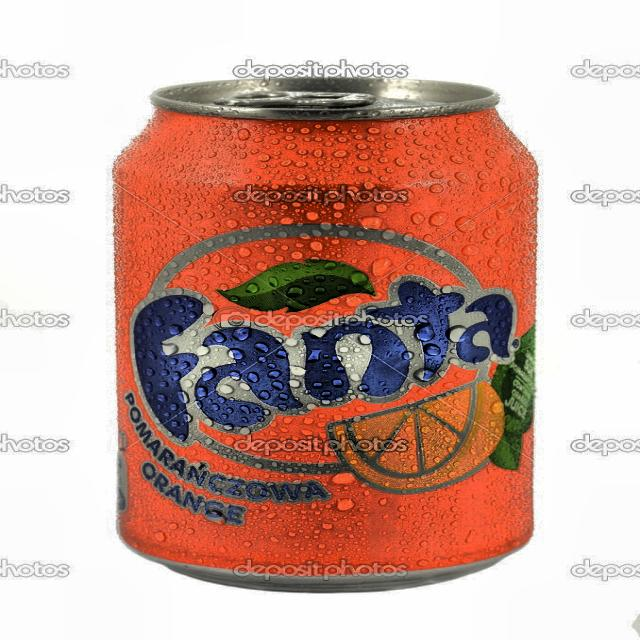Cans: (108, 57, 544, 602)
